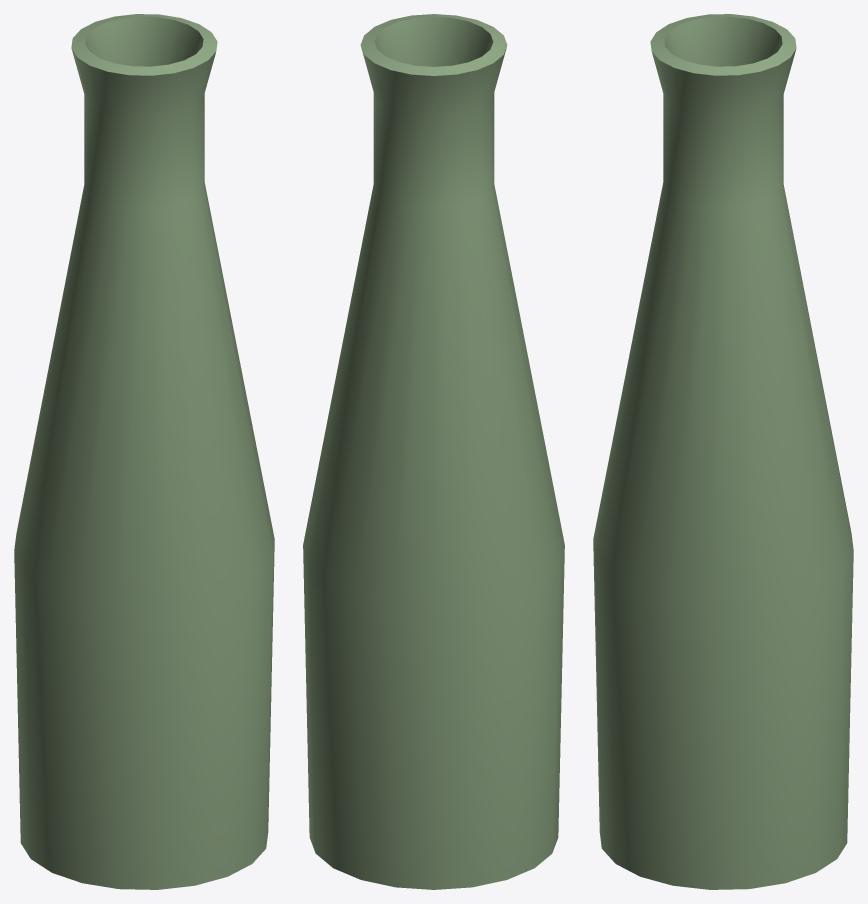
Rendered from Bottle_Water.fbx.
The picture shows the model from 3 angles, left to right: view 1: azimuth 30°, elevation 25°; view 2: azimuth 150°, elevation 25°; view 3: azimuth 270°, elevation 25°; orthographic projection.
Parts seen in each view (by area): view 1: Bottle_Water; view 2: Bottle_Water; view 3: Bottle_Water.
Part boxes in pixels (left/top/right/bottom): Bottle_Water: left=14, top=14, right=274, bottom=889; Bottle_Water: left=303, top=14, right=564, bottom=889; Bottle_Water: left=593, top=14, right=853, bottom=889.
Size of the model in its own units: 9.81 by 33.09 by 9.81.
